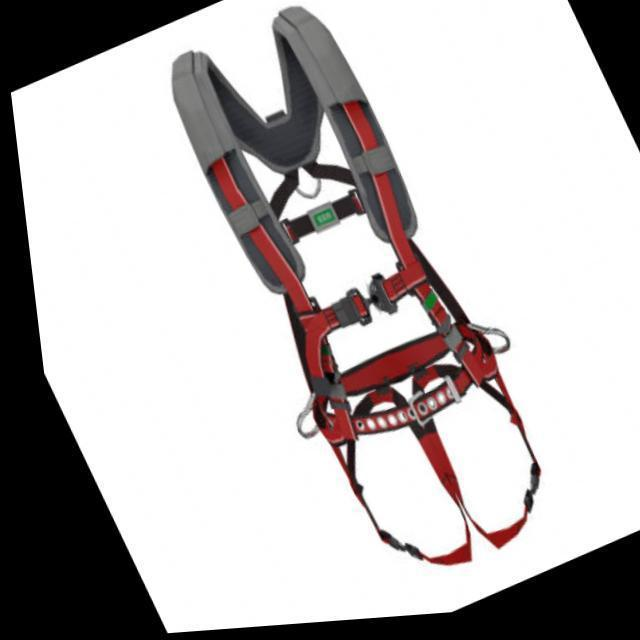Harness: (173, 7, 542, 566)
